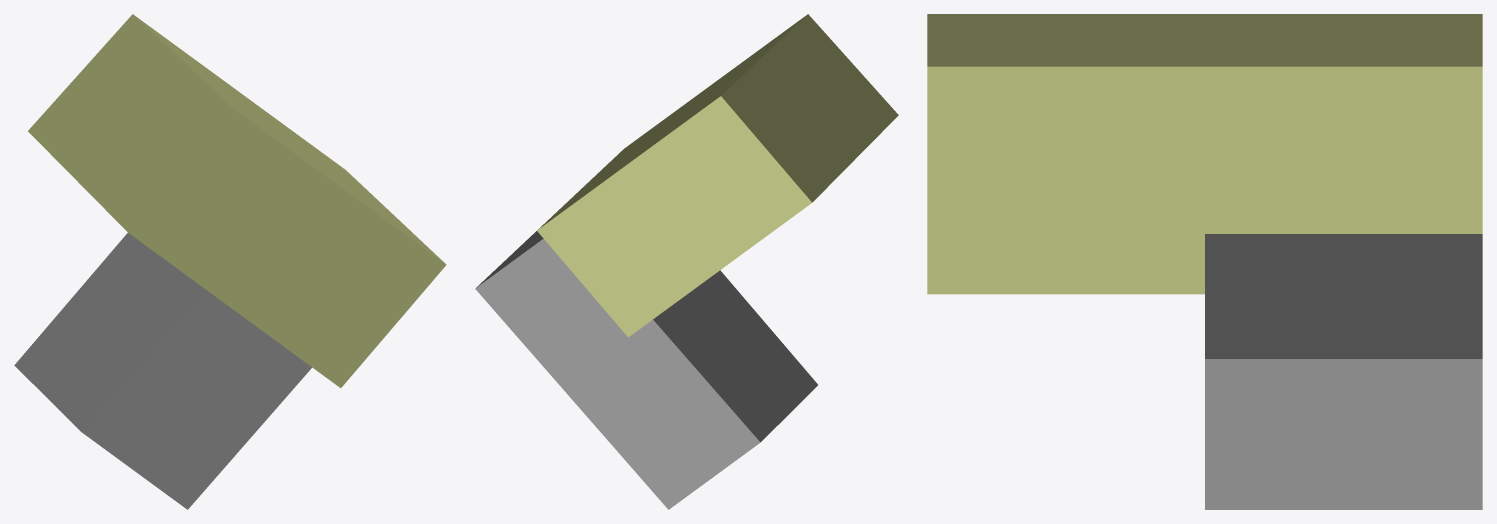
3 renders of one model, left to right at view 1: azimuth 30°, elevation 25°; view 2: azimuth 150°, elevation 25°; view 3: azimuth 270°, elevation 25°, orthographic. The views are drawn at different scales.
Parts seen in each view (by area): view 1: 0_1_1_3_2_2_3_3_3_2_3; view 2: 0_1_1_3_2_2_3_3_3_2_3; view 3: 0_1_1_3_2_2_3_3_3_2_3.
Boxes of the visible parts, box(x1,y1,x2,y2) form: 0_1_1_3_2_2_3_3_3_2_3: box(14, 14, 446, 509); 0_1_1_3_2_2_3_3_3_2_3: box(475, 14, 898, 509); 0_1_1_3_2_2_3_3_3_2_3: box(927, 14, 1482, 509).
Size of the model in its own units: 4.73 by 6.3 by 6.
